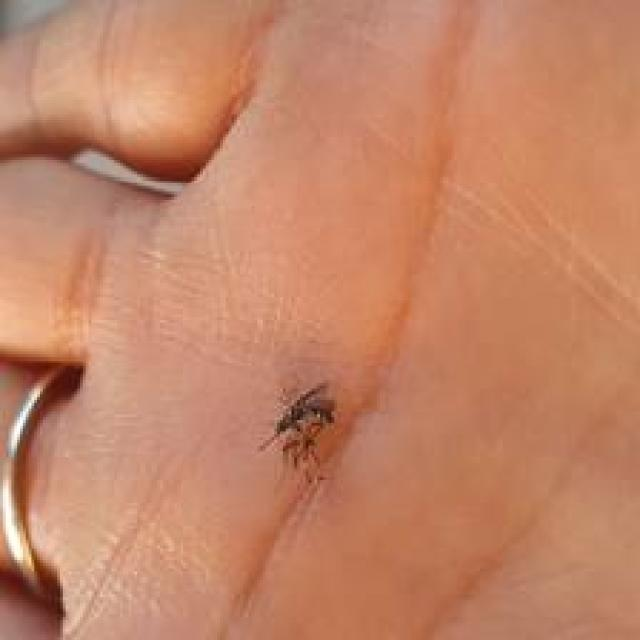Aedes albopictus: (255, 380, 338, 486)
